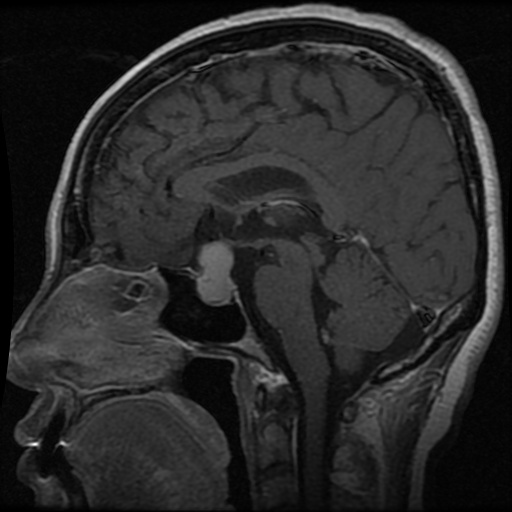pituitary: (195, 244, 234, 301)
